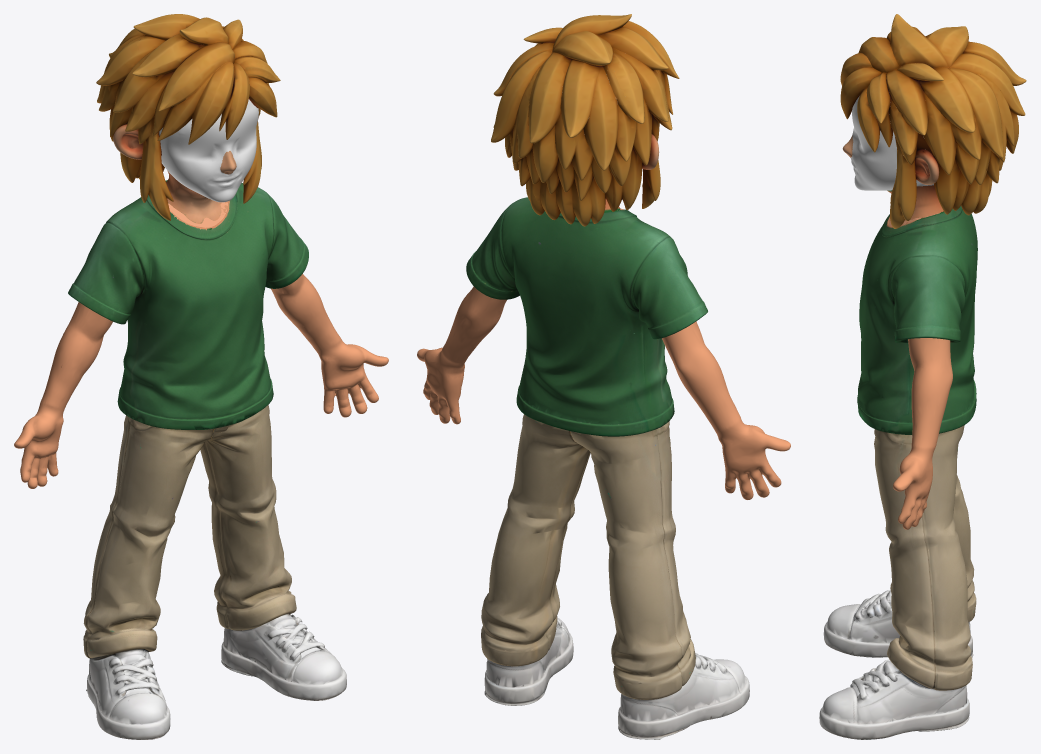
3 renders of one model, left to right at view 1: azimuth 30°, elevation 25°; view 2: azimuth 150°, elevation 25°; view 3: azimuth 270°, elevation 25°, orthographic. The views are drawn at different scales.
Visible parts, largest first — view 1: Torso_LOW.002, RightLeg_LOW.002, LeftLeg_LOW.002, RightArm_LOW.002, LeftArm_LOW.002, part_6_LOW, part_8_LOW, part_29_LOW, part_15_LOW, part_26_LOW, part_34_LOW, part_10_LOW (+8 smaller); view 2: Torso_LOW.002, RightLeg_LOW.002, LeftLeg_LOW.002, RightArm_LOW.002, LeftArm_LOW.002, part_8_LOW, part_25_LOW, part_5_LOW, part_9_LOW, part_26_LOW, part_35_LOW, part_29_LOW (+6 smaller); view 3: LeftLeg_LOW.002, Torso_LOW.002, LeftArm_LOW.002, RightLeg_LOW.002, part_25_LOW, part_20_LOW, part_8_LOW, part_6_LOW, part_38_LOW, part_4_LOW, part_32_LOW, part_13_LOW (+9 smaller).
Boxes of the visible parts, bbox=[...] form: Torso_LOW.002: bbox=[68, 183, 308, 429]; RightLeg_LOW.002: bbox=[83, 415, 213, 739]; LeftLeg_LOW.002: bbox=[200, 405, 346, 700]; RightArm_LOW.002: bbox=[14, 302, 112, 488]; LeftArm_LOW.002: bbox=[271, 274, 388, 417]; part_6_LOW: bbox=[159, 99, 258, 202]; part_8_LOW: bbox=[109, 14, 228, 66]; part_29_LOW: bbox=[125, 33, 205, 131]; part_15_LOW: bbox=[158, 42, 234, 111]; part_26_LOW: bbox=[96, 36, 163, 112]; part_34_LOW: bbox=[188, 62, 234, 144]; part_10_LOW: bbox=[140, 117, 173, 220]; Torso_LOW.002: bbox=[466, 197, 707, 436]; RightLeg_LOW.002: bbox=[570, 421, 749, 739]; LeftLeg_LOW.002: bbox=[481, 414, 590, 705]; RightArm_LOW.002: bbox=[662, 321, 790, 499]; LeftArm_LOW.002: bbox=[417, 286, 506, 424]; part_8_LOW: bbox=[552, 14, 640, 137]; part_25_LOW: bbox=[491, 51, 570, 170]; part_5_LOW: bbox=[583, 69, 651, 170]; part_9_LOW: bbox=[526, 124, 591, 226]; part_26_LOW: bbox=[609, 47, 668, 123]; part_35_LOW: bbox=[554, 110, 593, 200]; part_29_LOW: bbox=[599, 26, 672, 130]; LeftLeg_LOW.002: bbox=[819, 425, 972, 739]; Torso_LOW.002: bbox=[857, 206, 977, 434]; LeftArm_LOW.002: bbox=[893, 338, 952, 529]; RightLeg_LOW.002: bbox=[823, 445, 976, 657]; part_25_LOW: bbox=[948, 52, 1025, 184]; part_20_LOW: bbox=[883, 67, 975, 135]; part_8_LOW: bbox=[890, 14, 1026, 85]; part_6_LOW: bbox=[850, 96, 933, 190]; part_38_LOW: bbox=[889, 99, 918, 228]; part_4_LOW: bbox=[952, 71, 1014, 215]; part_32_LOW: bbox=[920, 86, 956, 175]; part_13_LOW: bbox=[857, 87, 892, 152].
Size of the model in its own units: 0.5722 by 0.9943 by 0.2826.
Materials: 6 (5 with a texture image).
